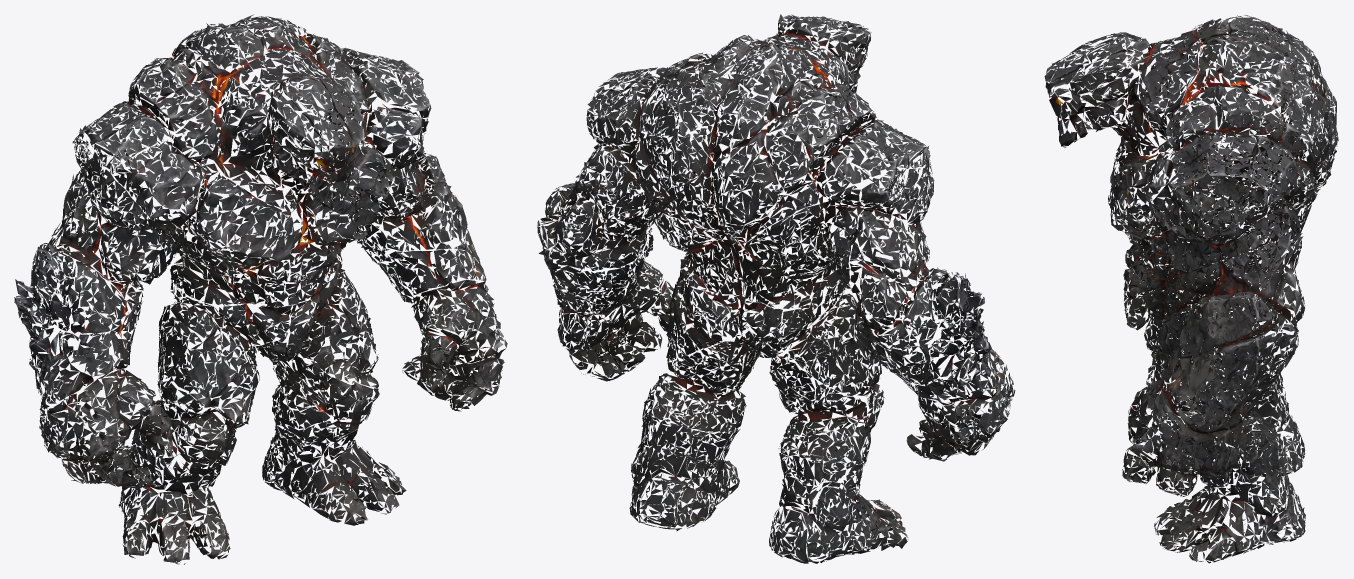
File: golem_lava.glb
3 views of the same model, side by side, from view 1: azimuth 30°, elevation 25°; view 2: azimuth 150°, elevation 25°; view 3: azimuth 270°, elevation 25° (orthographic). The views are drawn at different scales.
Parts seen in each view (by area): view 1: tripo_node_c21fa83c-c1ba-4733-911b-33937b2d93de; view 2: tripo_node_c21fa83c-c1ba-4733-911b-33937b2d93de; view 3: tripo_node_c21fa83c-c1ba-4733-911b-33937b2d93de.
Boxes of the visible parts, <box> form: tripo_node_c21fa83c-c1ba-4733-911b-33937b2d93de: <box>14,14,507,564</box>; tripo_node_c21fa83c-c1ba-4733-911b-33937b2d93de: <box>537,14,1015,563</box>; tripo_node_c21fa83c-c1ba-4733-911b-33937b2d93de: <box>1044,15,1338,563</box>.
Size of the model in its own units: 2.49 by 2.6 by 1.46.
Materials: 1 (1 with a texture image).
